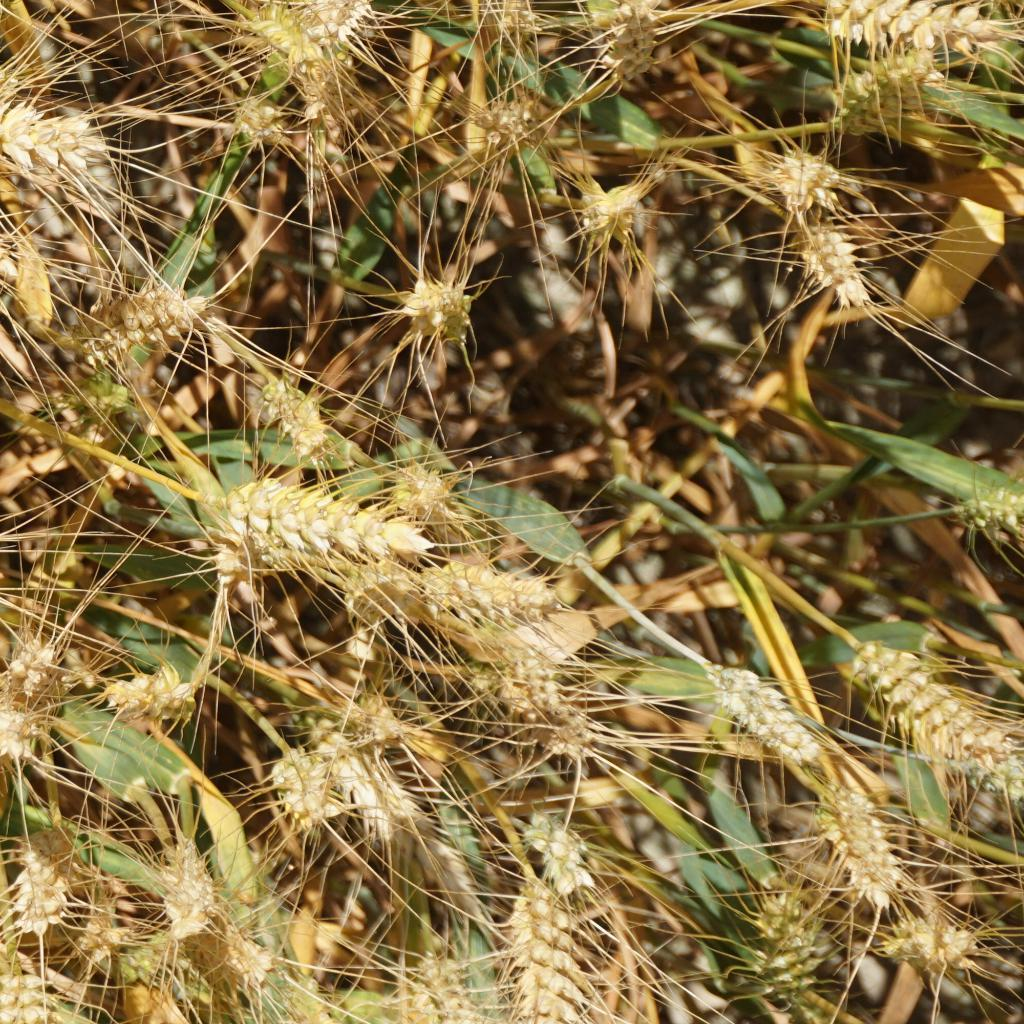0-0: (824, 621, 1024, 794), (693, 640, 837, 777), (203, 491, 429, 559), (499, 872, 592, 1022), (819, 775, 920, 913), (307, 717, 417, 836), (741, 876, 832, 1005), (0, 816, 91, 939), (71, 278, 200, 364), (0, 88, 109, 182), (423, 552, 562, 623), (785, 218, 883, 314), (828, 53, 937, 135), (823, 0, 986, 51), (240, 0, 335, 86), (102, 655, 203, 732), (472, 656, 583, 726), (156, 837, 227, 937), (749, 137, 849, 207), (517, 811, 600, 894), (477, 704, 591, 764), (271, 743, 343, 837), (392, 273, 478, 349), (260, 374, 332, 459), (471, 86, 547, 161), (878, 909, 972, 969), (335, 560, 427, 621), (390, 450, 461, 528), (50, 363, 138, 424), (577, 174, 648, 248), (410, 948, 479, 1024), (600, 0, 669, 76), (941, 485, 1024, 541), (346, 686, 417, 751), (0, 629, 73, 692), (212, 930, 282, 990), (307, 0, 393, 45), (122, 942, 197, 993), (0, 969, 63, 1024), (76, 918, 132, 968), (223, 95, 278, 141), (489, 0, 546, 38), (0, 693, 31, 758), (0, 54, 19, 97), (0, 0, 32, 7)
